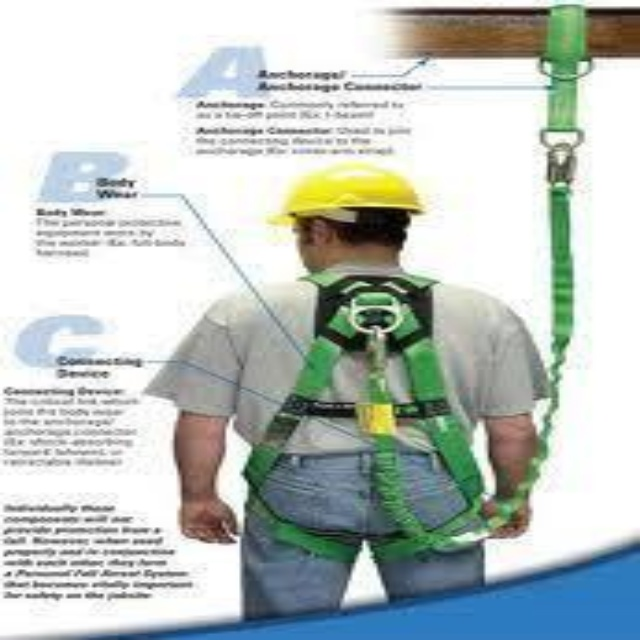Arnes_seguridad: (255, 266, 493, 578)
